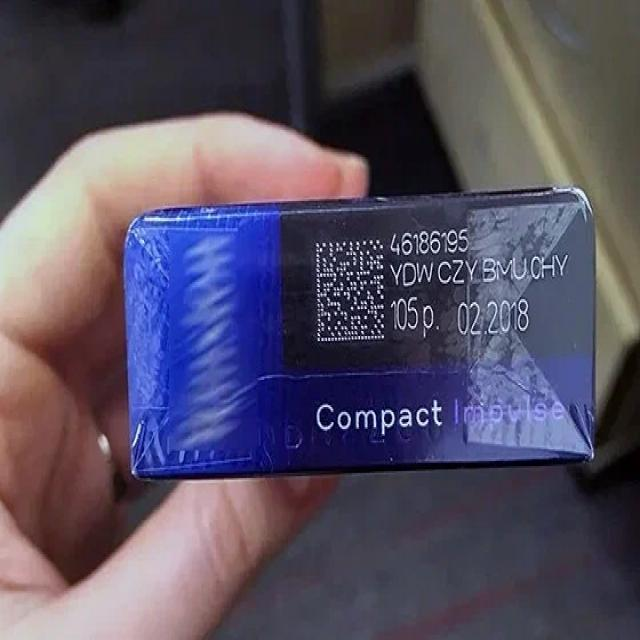datamatrix: (316, 238, 389, 346)
